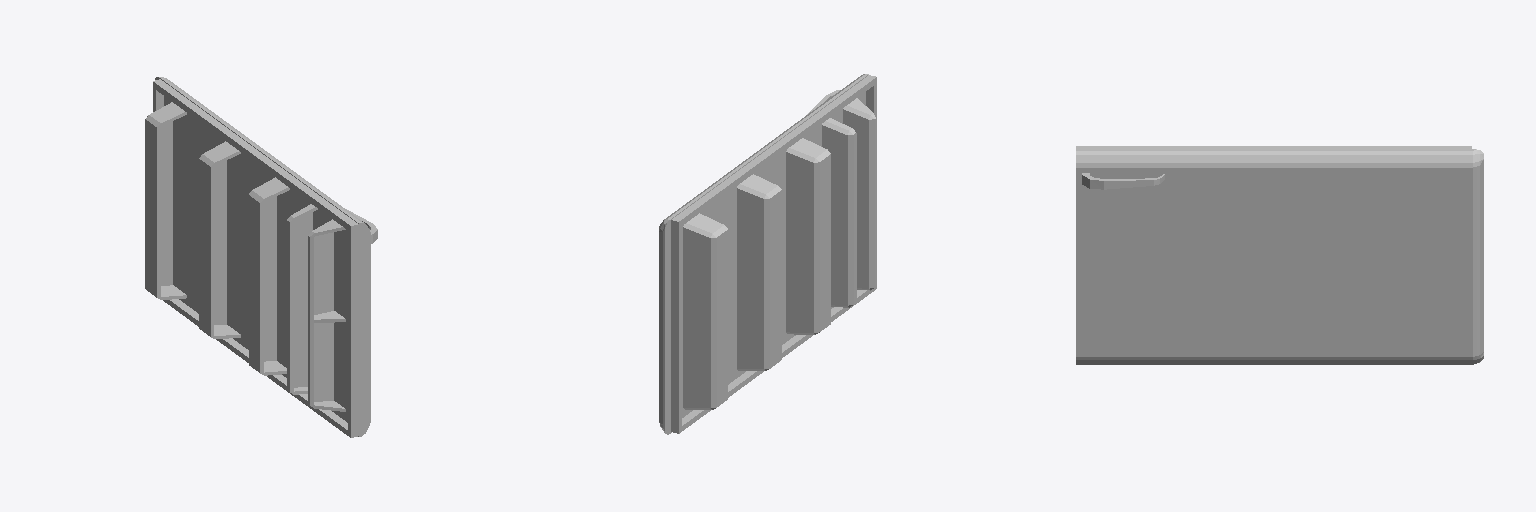
File: refrigeratordoor1_896e6105.obj
3 renders of one model, left to right at view 1: azimuth 30°, elevation 25°; view 2: azimuth 150°, elevation 25°; view 3: azimuth 270°, elevation 25°, orthographic.
Parts seen in each view (by area): view 1: bathtub02; view 2: bathtub02; view 3: bathtub02.
Part boxes in pixels (x1,y1,x2,y2): bathtub02: (145,77,377,437); bathtub02: (659,74,876,434); bathtub02: (1076,146,1483,364).
Size of the model in its own units: 9.34 by 32.25 by 55.69.